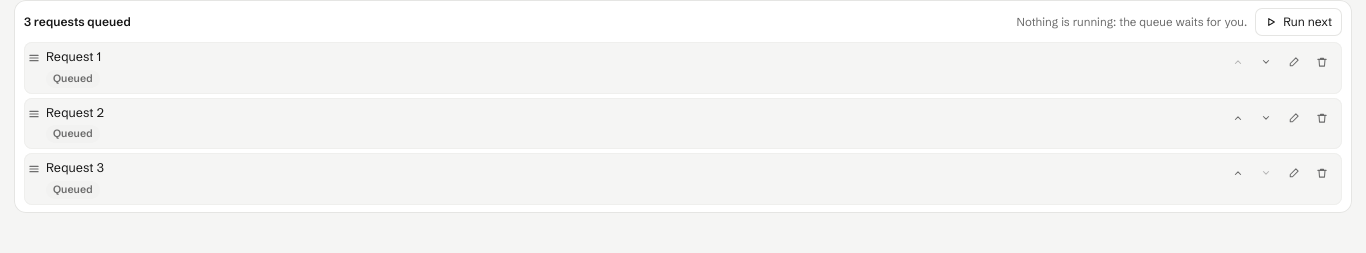
Test: QueuedRequests › a Run next refused because a job is running says why
The image size is (1366, 253).
Click the button "Run next": click(1299, 22) [1255, 8, 1342, 36]
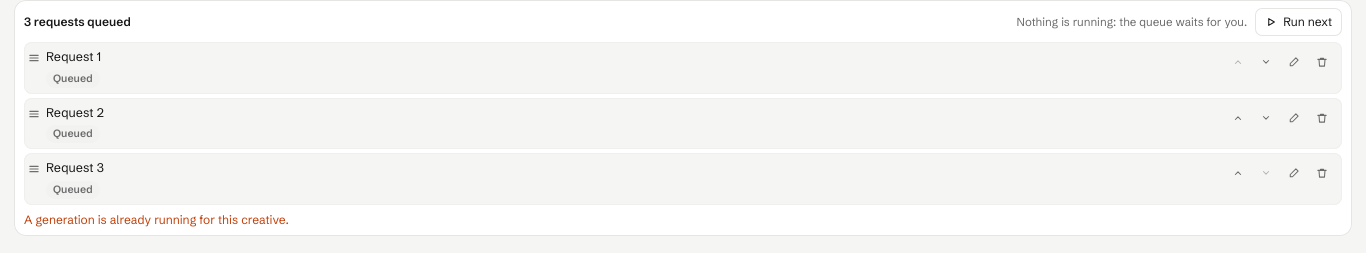
expect the message reads "A generation is already running for this creative.": met, box [24, 212, 289, 226]
